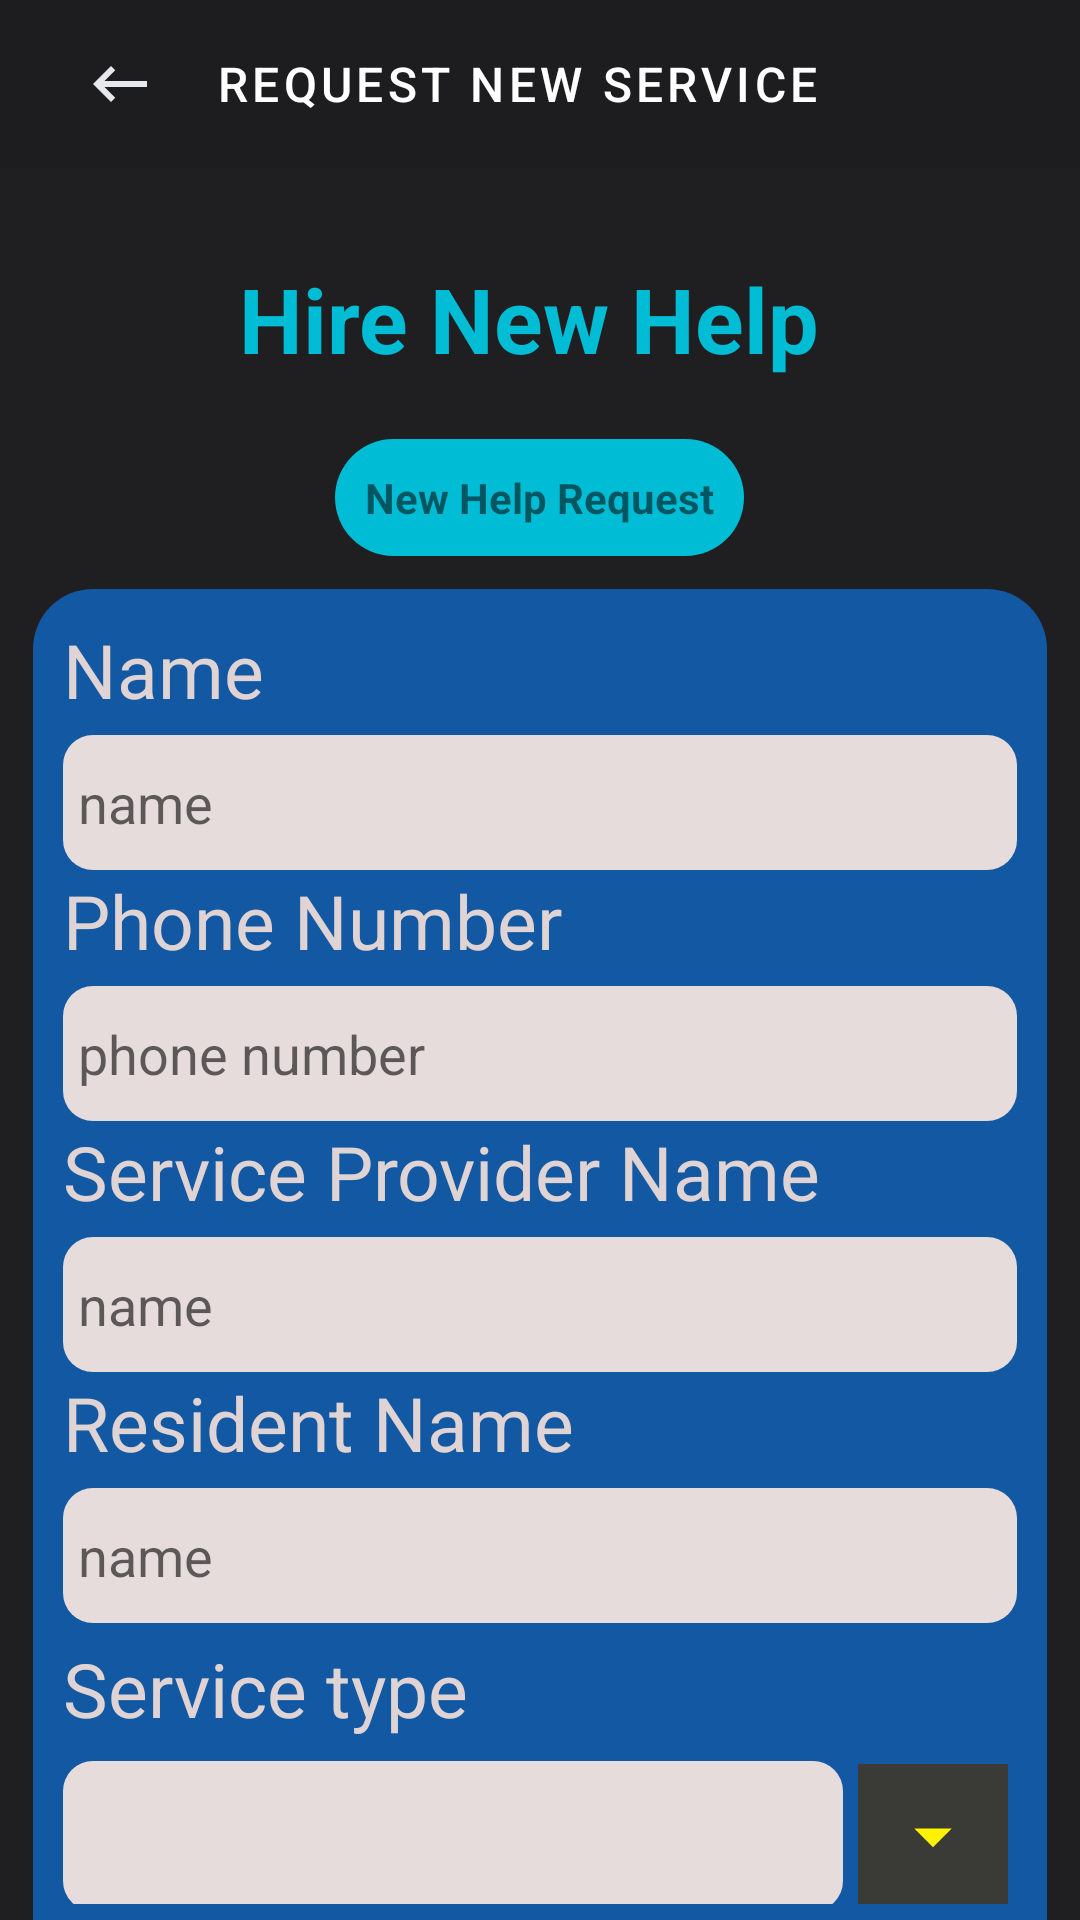

Named icons in this screenshot (1080 × 1920) and their centers, (x,y):
option: (933,1834)
